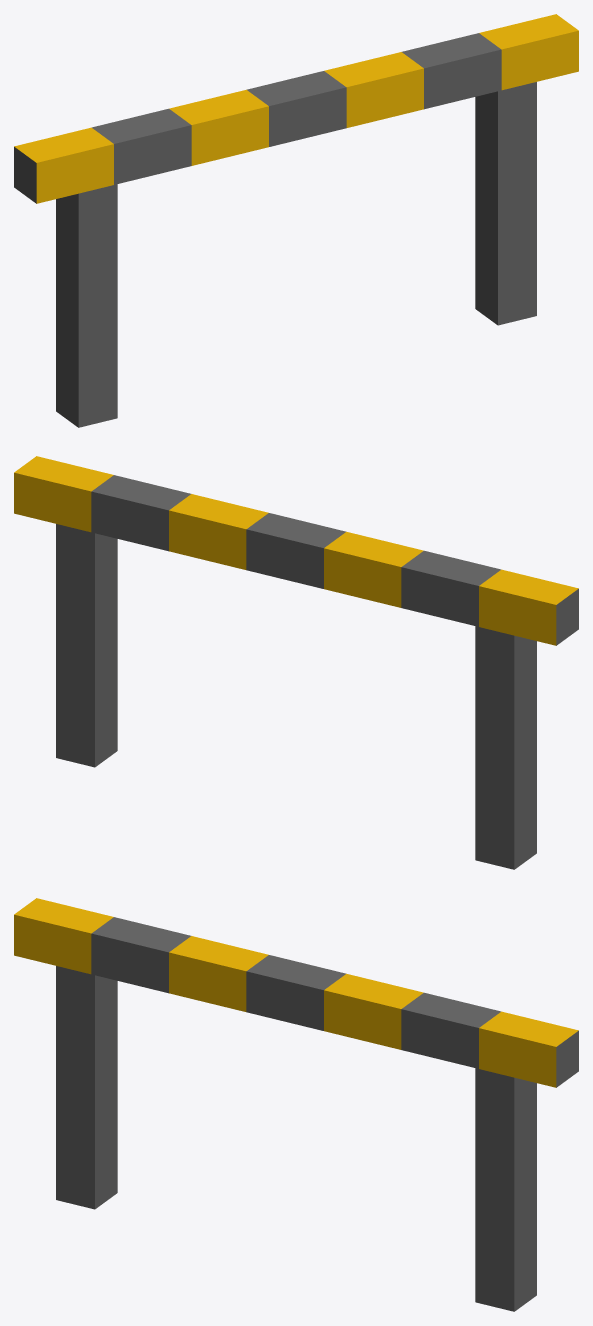
Rendered from Barrier.fbx.
The picture shows the model from 3 angles, top to bottom: view 1: azimuth 30°, elevation 25°; view 2: azimuth 150°, elevation 25°; view 3: azimuth 330°, elevation 25°; orthographic projection.
Visible parts, largest first — view 1: Barrier; view 2: Barrier; view 3: Barrier.
Boxes of the visible parts, <box> form: Barrier: <box>14,14,578,427</box>; Barrier: <box>14,456,578,869</box>; Barrier: <box>14,898,578,1311</box>.
Size of the model in its own units: 0.8828 by 0.4279 by 0.0637.
